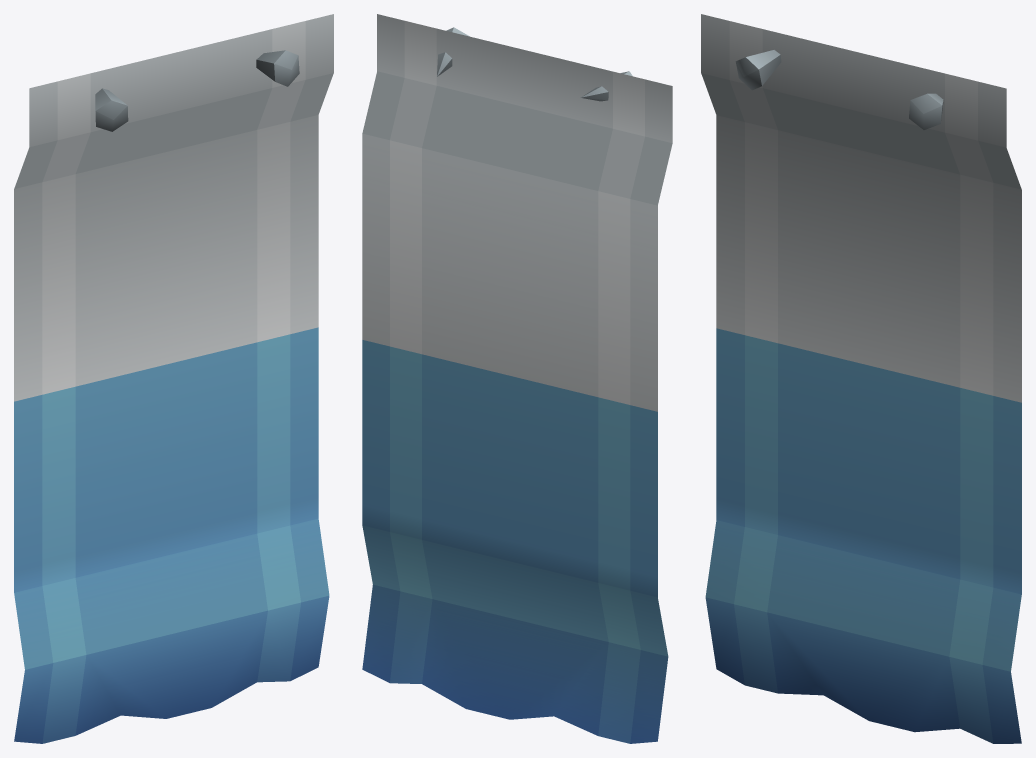
Rendered from banner_patternB_blue.gltf.
3 views of the same model, side by side, from view 1: azimuth 30°, elevation 25°; view 2: azimuth 150°, elevation 25°; view 3: azimuth 330°, elevation 25° (orthographic). The views are drawn at different scales.
Visible parts, largest first — view 1: banner_patternB_blue; view 2: banner_patternB_blue; view 3: banner_patternB_blue.
Boxes of the visible parts, x1,y1,x2,y2 form: banner_patternB_blue: [14, 14, 333, 743]; banner_patternB_blue: [362, 14, 672, 743]; banner_patternB_blue: [701, 14, 1021, 743].
Bounding box in the file's own units: 1.5 × 3.2 × 0.3119.
Materials: 1 (1 with a texture image).
